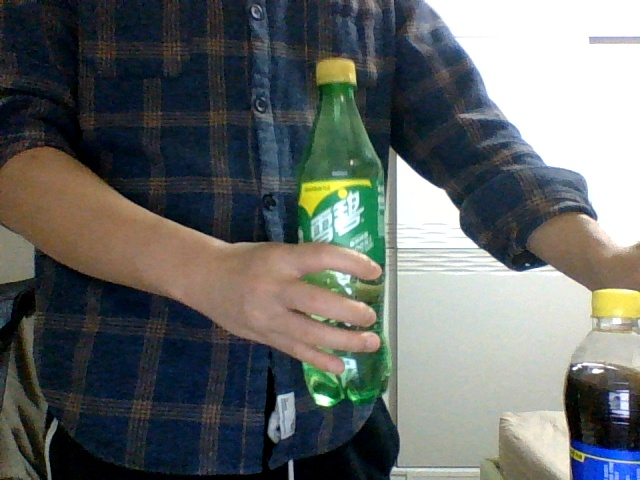Cola: (565, 284, 639, 479)
Sprite: (295, 58, 392, 406)
